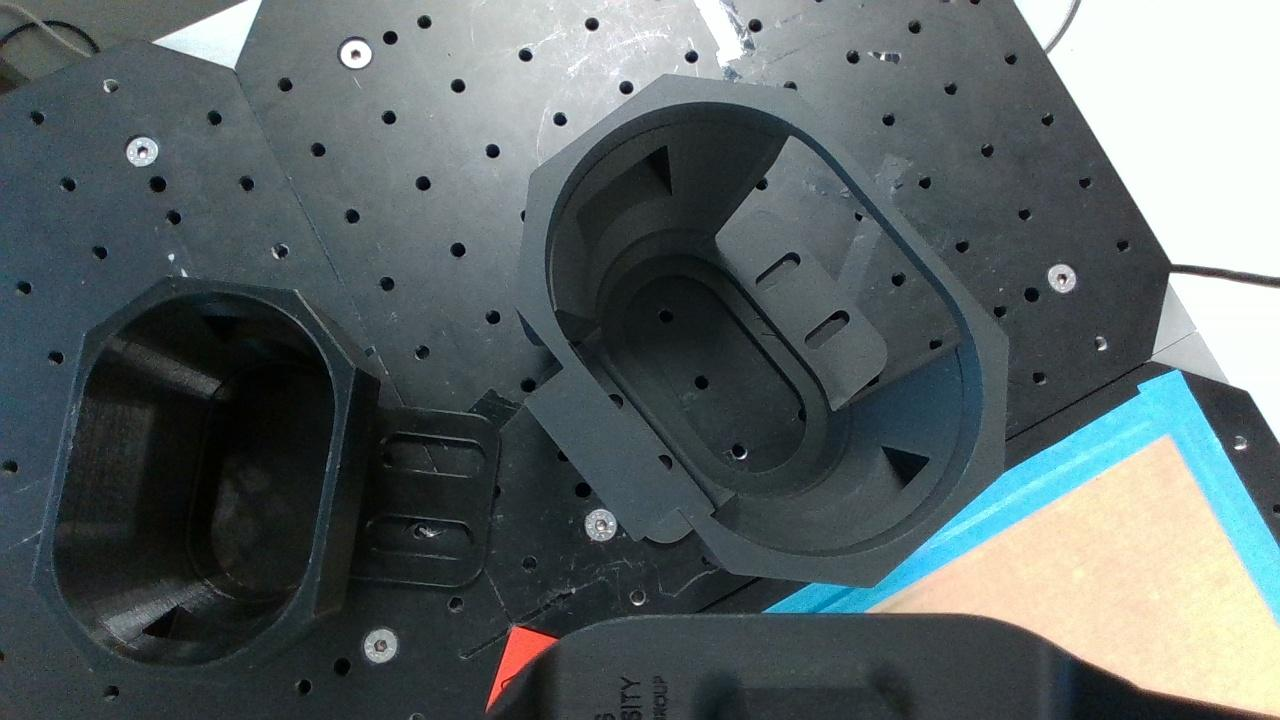big_interface: (514, 74, 1012, 587)
small_interface: (30, 273, 358, 688)
